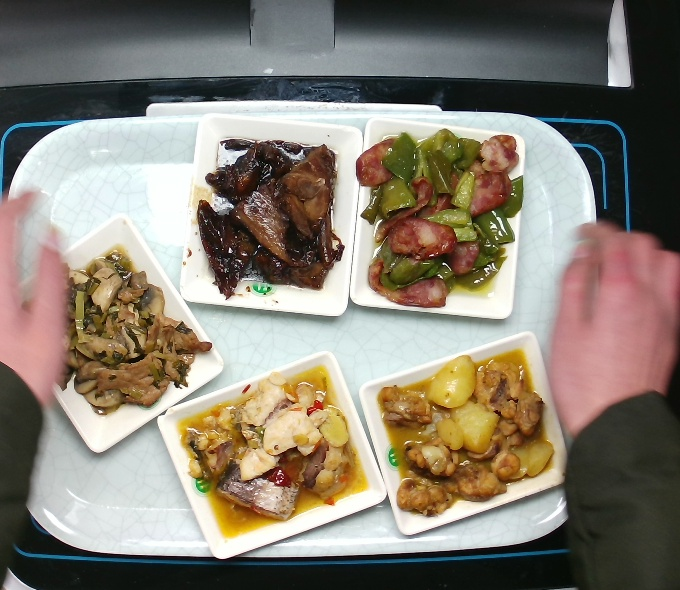wcq-JiangZhiYa: (194, 137, 344, 302)
wcq-QingJiaoXiangChang: (354, 127, 526, 308)
wcq-SuanCaiYu: (176, 364, 373, 538)
wcq-TuDouJiKuai: (376, 348, 554, 516)
